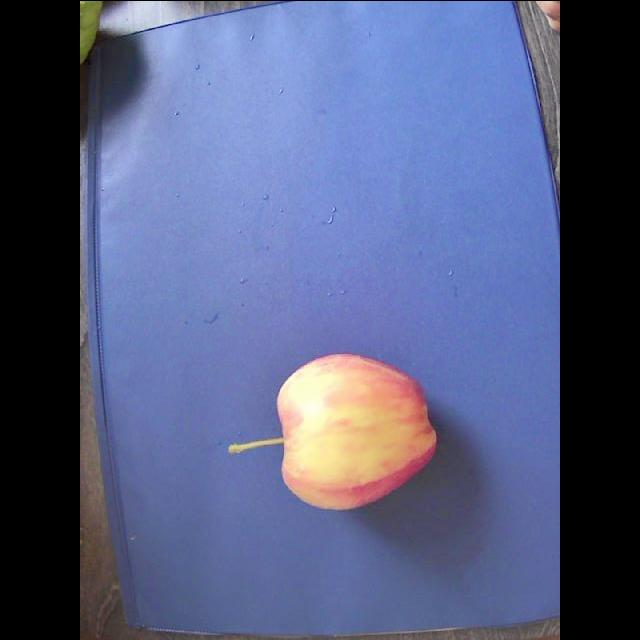manzana: (228, 354, 436, 509)
